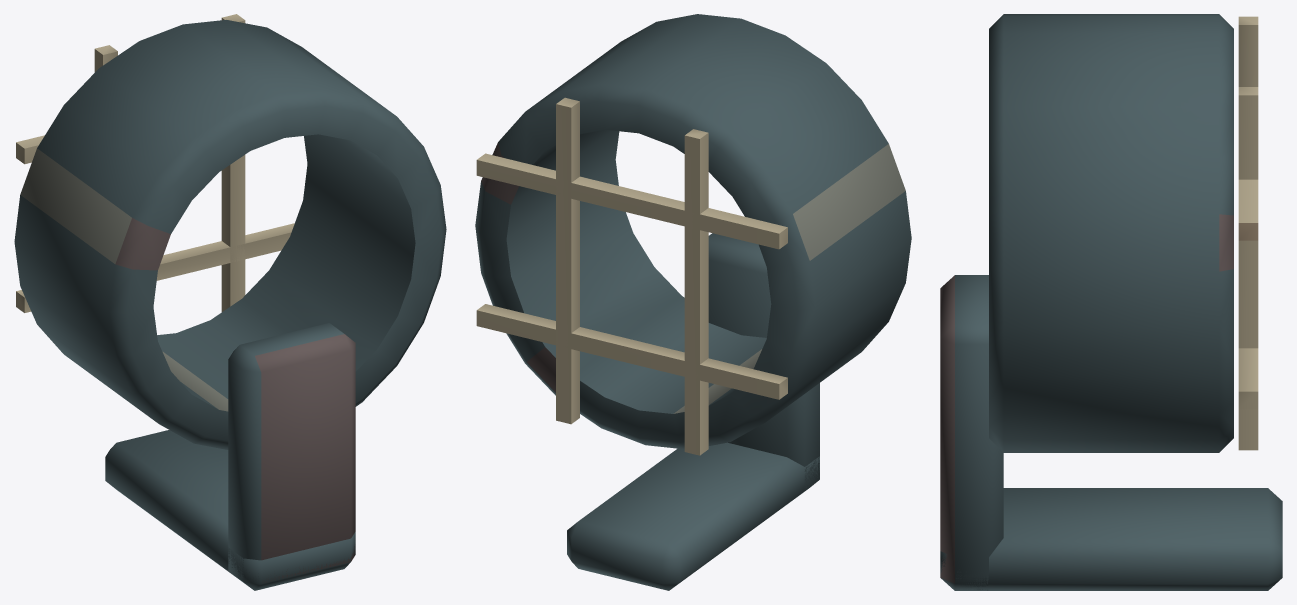
Rendered from prop_lamp_body.glb.
The picture shows the model from 3 angles, left to right: view 1: azimuth 30°, elevation 25°; view 2: azimuth 150°, elevation 25°; view 3: azimuth 270°, elevation 25°; orthographic projection. The views are drawn at different scales.
Parts seen in each view (by area): view 1: Surface; view 2: Surface; view 3: Surface.
Boxes of the visible parts, x1=… form: Surface: x1=14, y1=14, x2=446, y2=590; Surface: x1=475, y1=14, x2=911, y2=590; Surface: x1=940, y1=14, x2=1282, y2=590.
Size of the model in its own units: 0.9 by 1.2 by 0.7.
